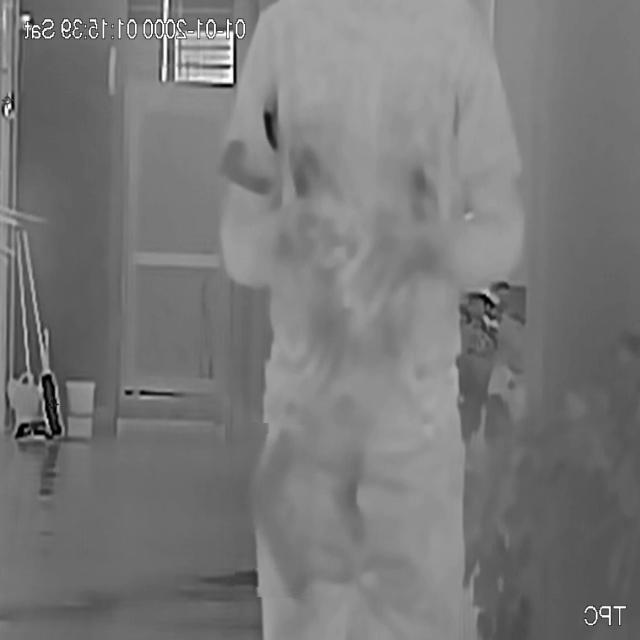Weapon: (236, 423, 316, 599)
